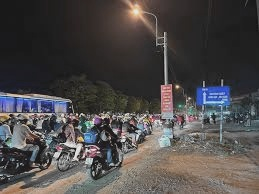Bien-so: (90, 159, 99, 168), (58, 155, 66, 161)
